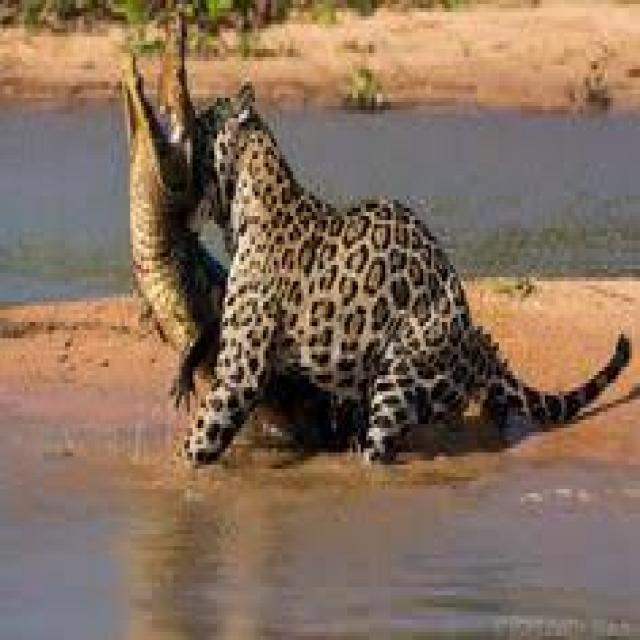Jaguar: (185, 81, 634, 469)
